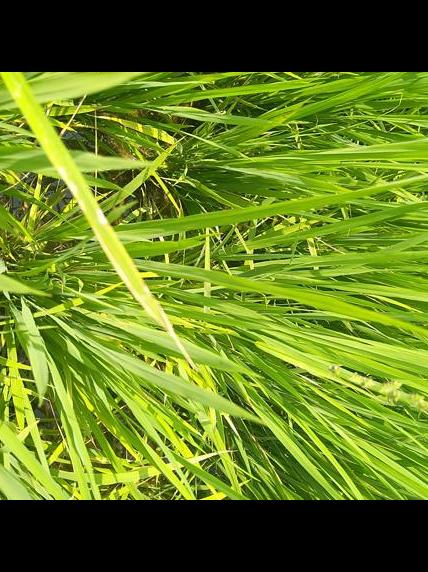Leaf Blight: (39, 147, 195, 371)
